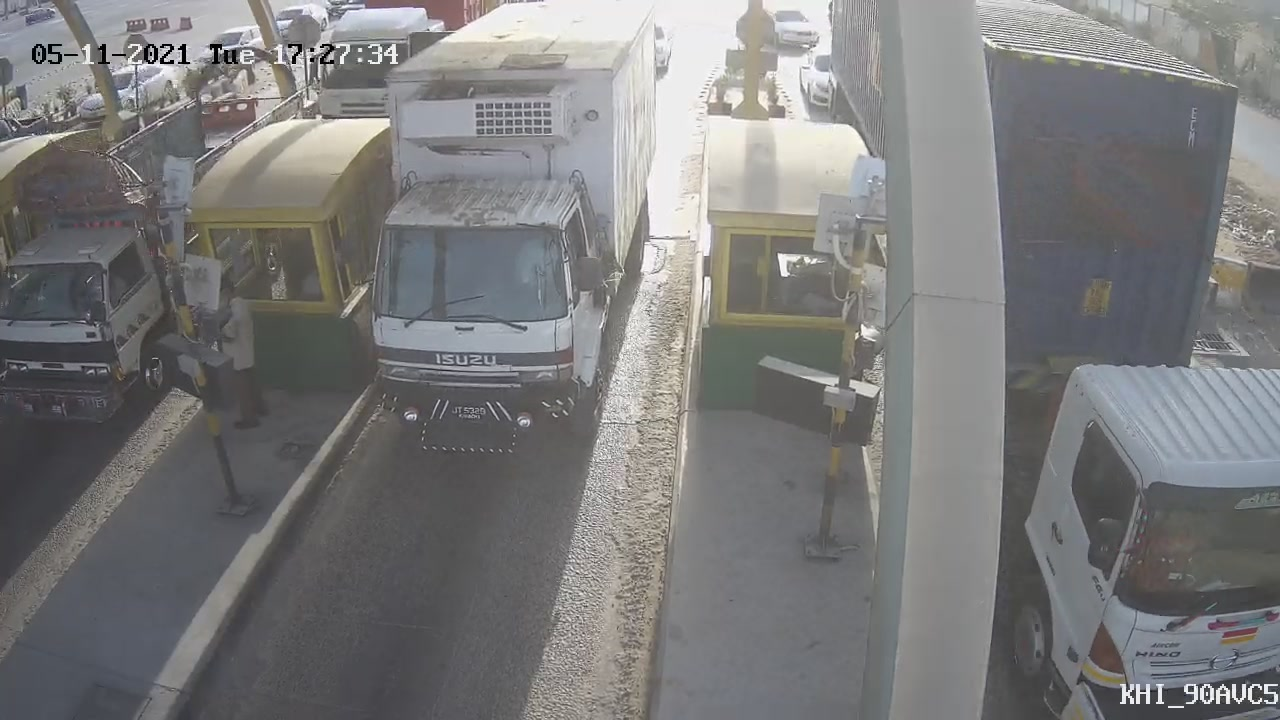F5: (308, 3, 682, 476)
